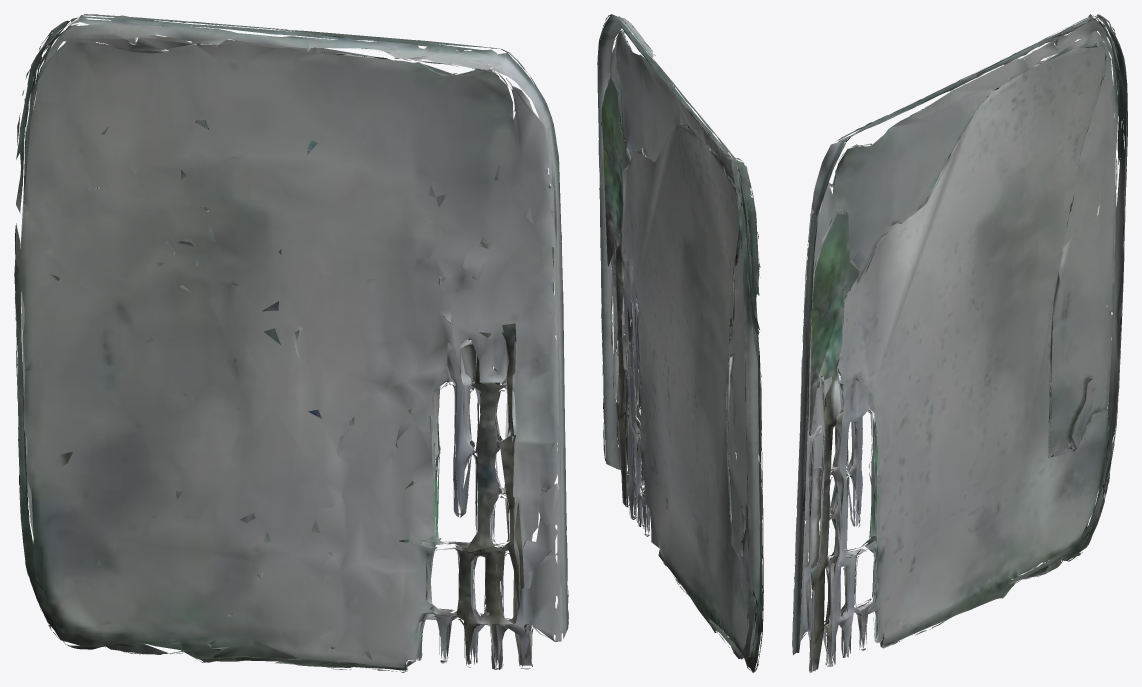
The model's file is sullust-factory.lo.glb.
3 views of the same model, side by side, from view 1: azimuth 30°, elevation 25°; view 2: azimuth 150°, elevation 25°; view 3: azimuth 270°, elevation 25° (orthographic). The views are drawn at different scales.
Visible parts, largest first — view 1: low; view 2: low; view 3: low.
Boxes of the visible parts, x1,y1,x2,y2 form: low: [14, 14, 568, 672]; low: [597, 14, 763, 672]; low: [792, 14, 1127, 672].
Bounding box in the file's own units: 0.6224 × 1.01 × 0.5528.
Materials: 1 (1 with a texture image).
